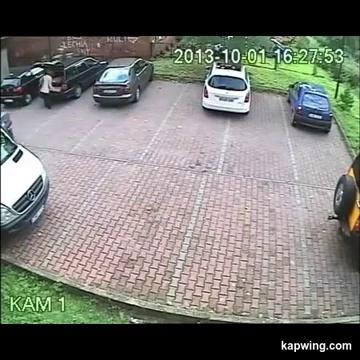car: (0, 127, 49, 235), (34, 54, 107, 99), (328, 153, 359, 254), (93, 57, 153, 104), (202, 62, 251, 113), (287, 81, 332, 132), (1, 66, 43, 105), (0, 111, 13, 138)
